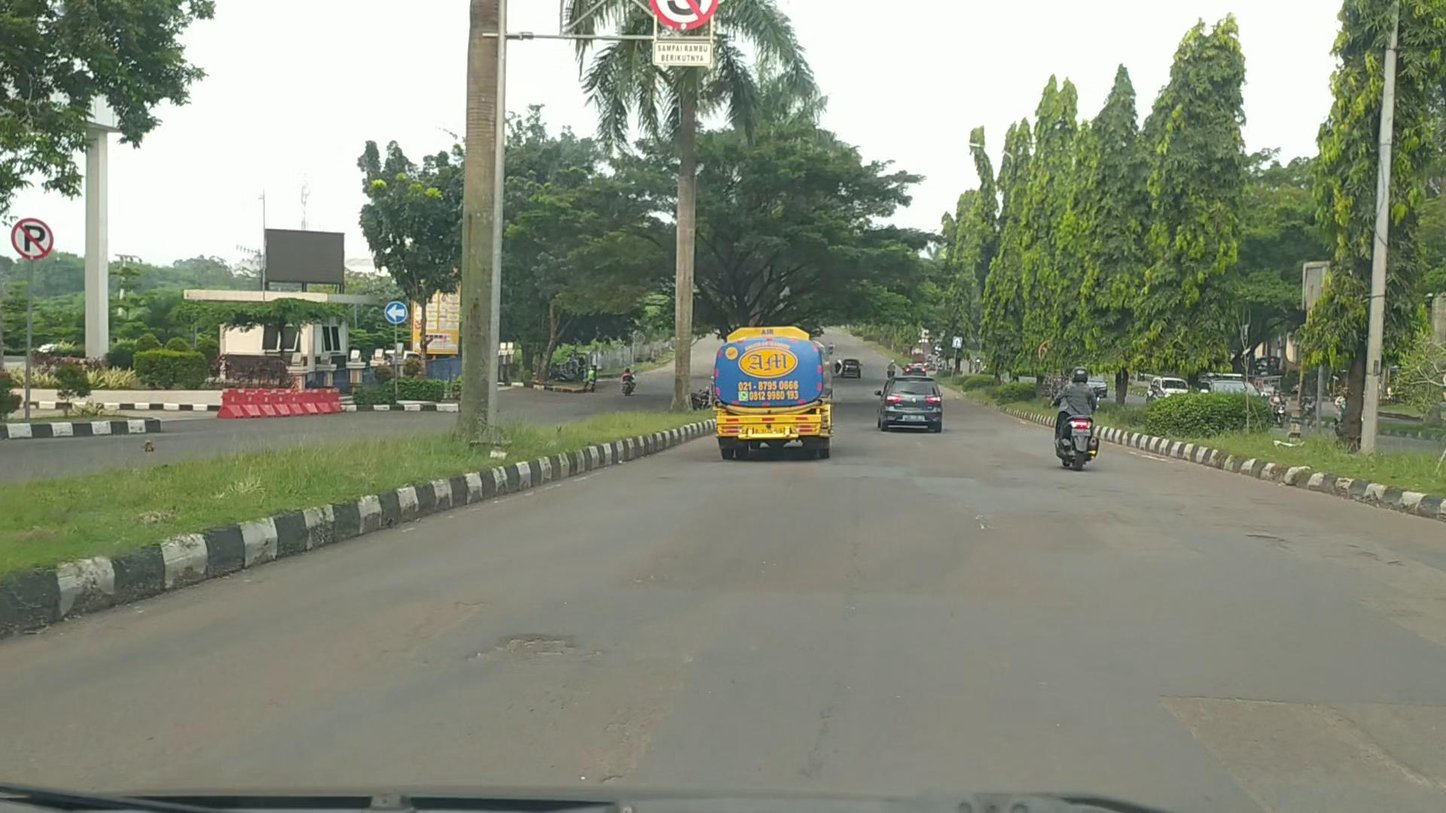pothole: (501, 633, 574, 658), (1245, 534, 1287, 546)
